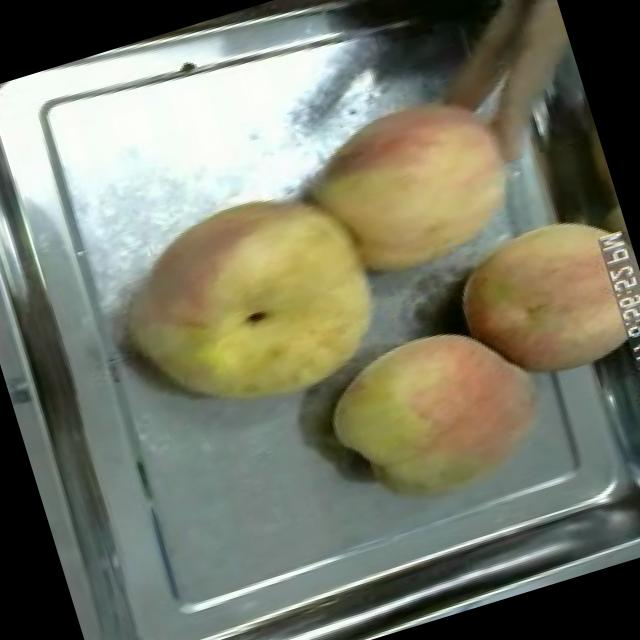Fruit: (86, 154, 415, 449), (276, 56, 556, 310), (306, 299, 566, 532), (431, 194, 634, 406)
